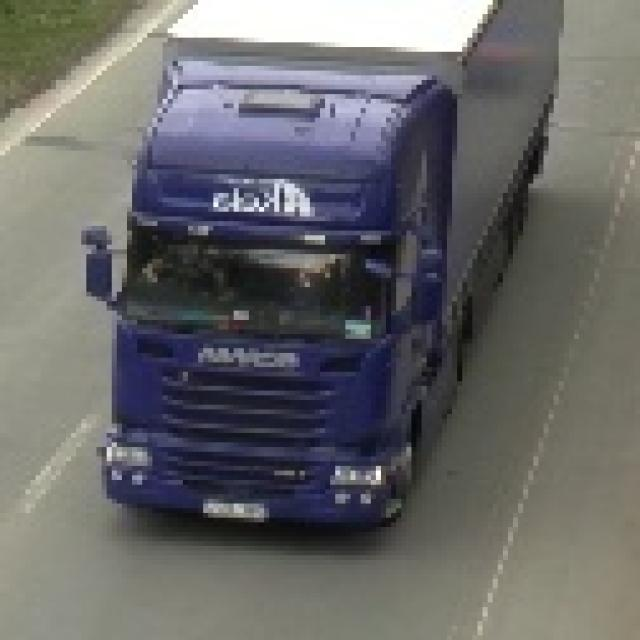TRUCK: (96, 0, 551, 529)
